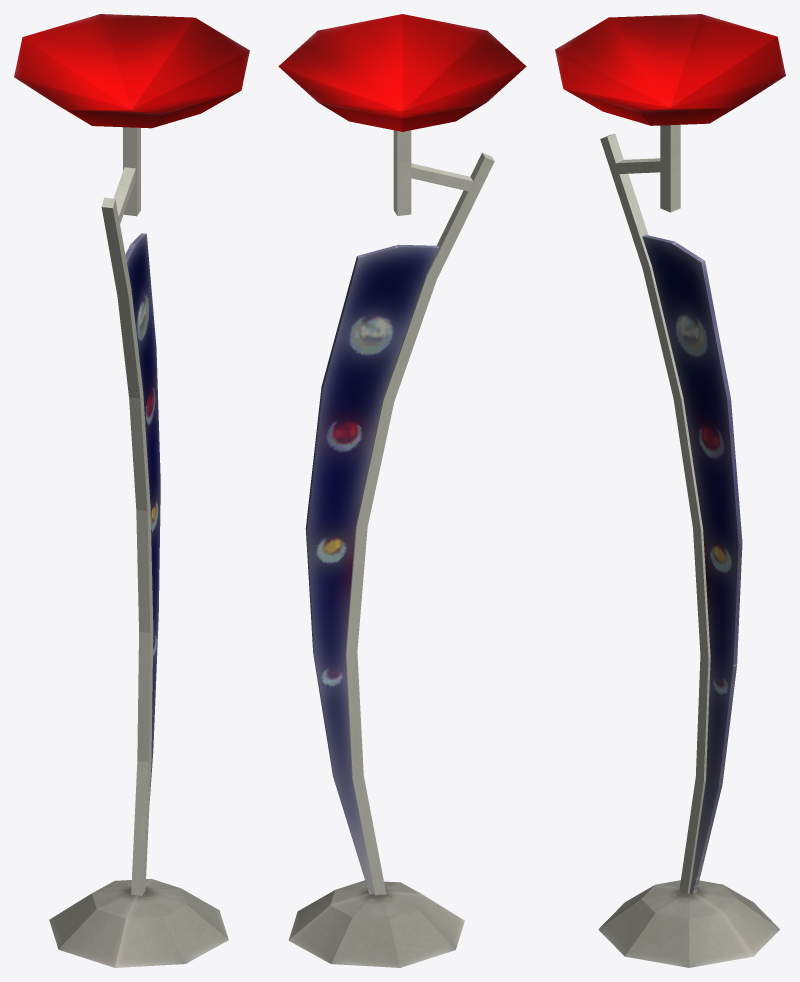
Rendered from Lamp3.fbx.
3 views of the same model, side by side, from view 1: azimuth 30°, elevation 25°; view 2: azimuth 150°, elevation 25°; view 3: azimuth 270°, elevation 25° (orthographic). The views are drawn at different scales.
Visible parts, largest first — view 1: Empty_Mesh; view 2: Empty_Mesh; view 3: Empty_Mesh.
Part boxes in pixels (box(x1,y1,x2,y2)): Empty_Mesh: box(14, 14, 249, 967); Empty_Mesh: box(278, 14, 526, 967); Empty_Mesh: box(555, 14, 785, 967).
Bounding box in the file's own units: 34.58 × 142 × 34.58.
